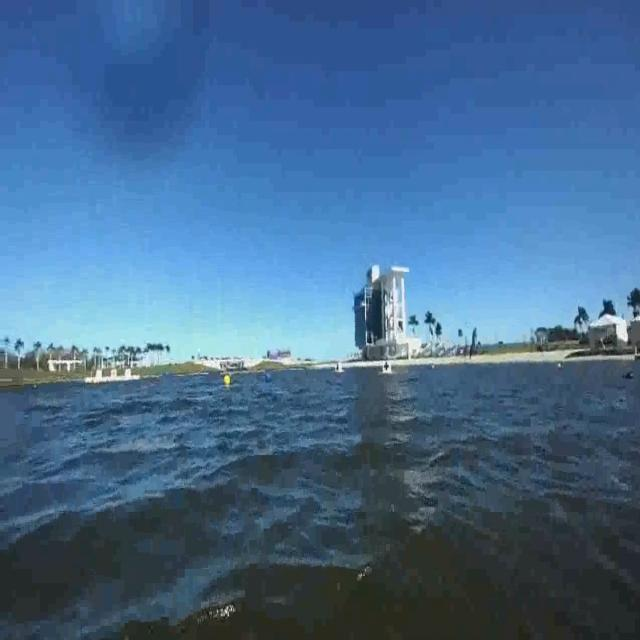blue-buoy: (263, 373, 273, 382)
yellow-buoy: (223, 374, 231, 389)
